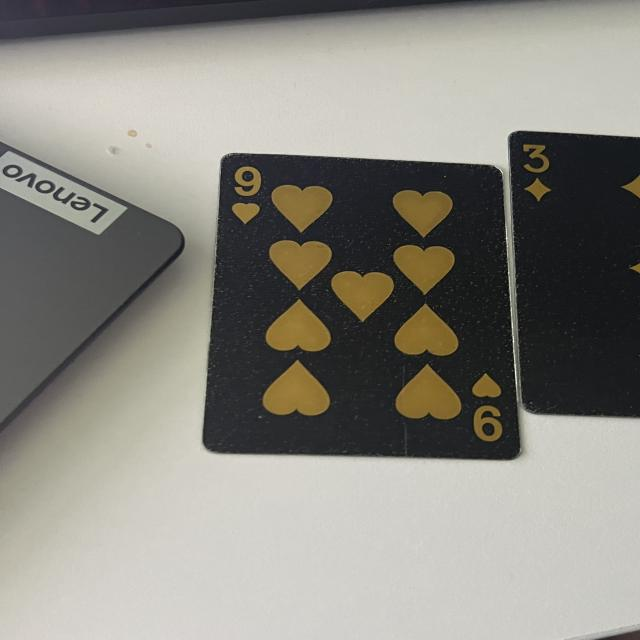3D: (517, 139, 559, 205)
9H: (467, 367, 513, 446), (230, 162, 262, 226)
